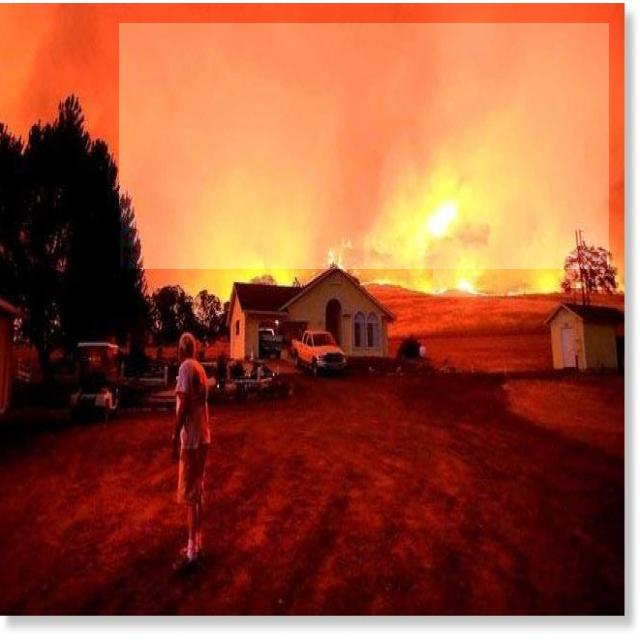Fire: (433, 250, 478, 297), (418, 202, 468, 240)
Smoke: (120, 23, 610, 269)
